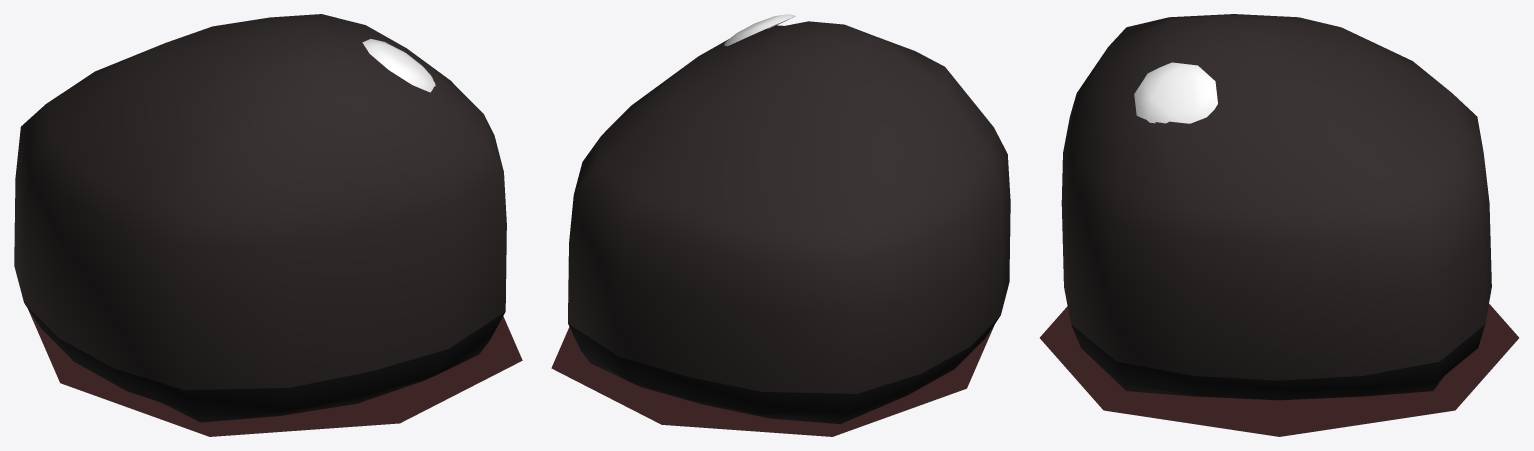
File: Oozium238Mesh.NoireEclipse.glb
3 renders of one model, left to right at view 1: azimuth 30°, elevation 25°; view 2: azimuth 150°, elevation 25°; view 3: azimuth 270°, elevation 25°, orthographic. The views are drawn at different scales.
Parts seen in each view (by area): view 1: Oozium238Mesh.NoireEclipse; view 2: Oozium238Mesh.NoireEclipse; view 3: Oozium238Mesh.NoireEclipse.
Boxes of the visible parts, <box> form: Oozium238Mesh.NoireEclipse: <box>14,14,522,436</box>; Oozium238Mesh.NoireEclipse: <box>551,14,1010,436</box>; Oozium238Mesh.NoireEclipse: <box>1040,14,1518,436</box>.
Bounding box in the file's own units: 2.04 × 1.44 × 2.07.
1 material, 1 textured.
